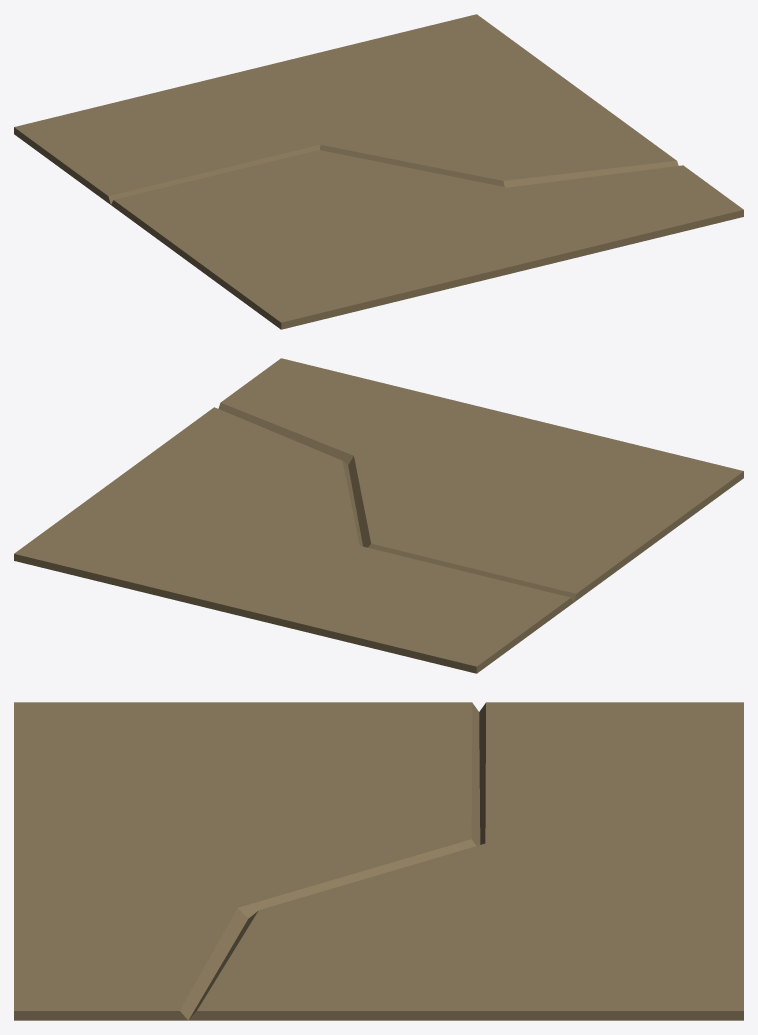
File: Roof_Tile_4_low.fbx
3 views of the same model, one above another, from view 1: azimuth 30°, elevation 25°; view 2: azimuth 150°, elevation 25°; view 3: azimuth 270°, elevation 25° (orthographic). The views are drawn at different scales.
Visible parts, largest first — view 1: Roof_Tile_4_low; view 2: Roof_Tile_4_low; view 3: Roof_Tile_4_low.
Boxes of the visible parts, left/top/right/bottom form: Roof_Tile_4_low: left=14, top=14, right=743, bottom=329; Roof_Tile_4_low: left=14, top=358, right=743, bottom=673; Roof_Tile_4_low: left=14, top=702, right=743, bottom=1020.
Bounding box in the file's own units: 1 × 0.0147 × 1.
